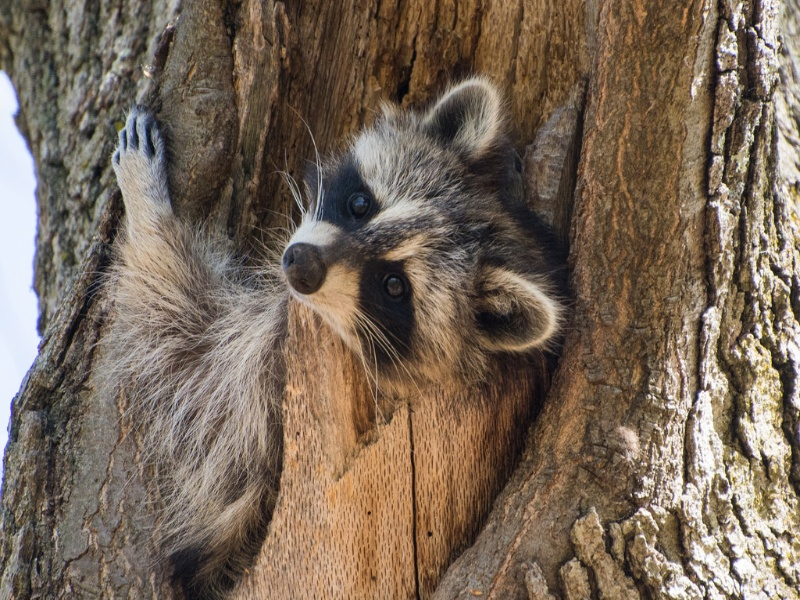raccoon: (104, 72, 571, 579)
